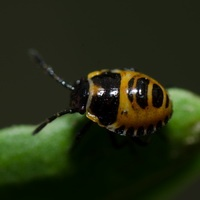insect: (29, 49, 172, 136)
